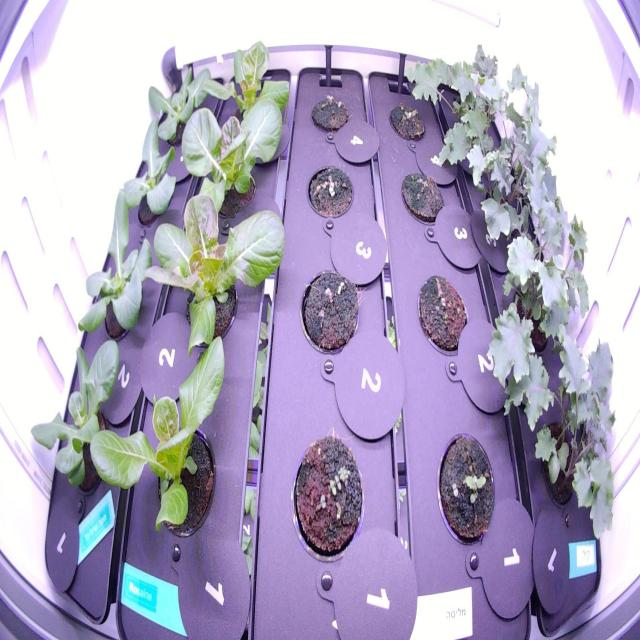germination: (285, 421, 369, 570), (434, 421, 499, 552), (294, 261, 364, 365), (414, 270, 472, 376), (303, 156, 357, 224), (397, 163, 448, 230), (306, 84, 354, 146), (384, 91, 430, 152)
young: (81, 326, 242, 594), (22, 316, 164, 530), (139, 181, 290, 378), (70, 174, 164, 353), (175, 91, 290, 234), (194, 31, 298, 166), (139, 46, 225, 162), (114, 109, 186, 242)
